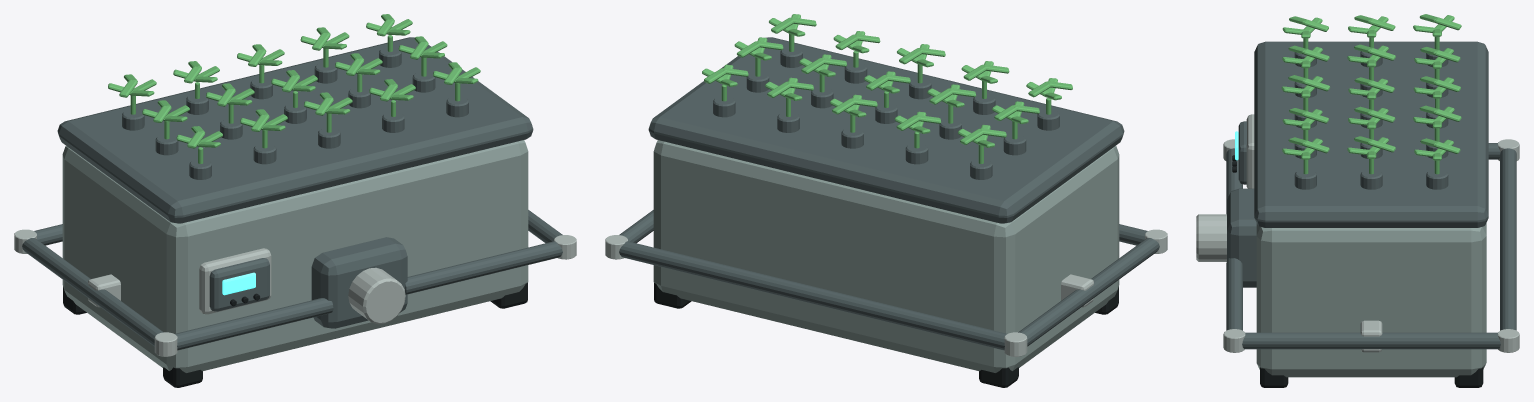
File: Bac de culture en eau profonde.glb
3 views of the same model, side by side, from view 1: azimuth 30°, elevation 25°; view 2: azimuth 150°, elevation 25°; view 3: azimuth 270°, elevation 25° (orthographic). The views are drawn at different scales.
Visible parts, largest first — view 1: 08_deep_water_culture_basin_Tank, 08_deep_water_culture_basin_Closed_Lid, 08_deep_water_culture_basin_Central_Motor_Housing, 08_deep_water_culture_basin_Right_Circulation_Segment_1, 08_deep_water_culture_basin_Left_Circulation_Segment_1, 08_deep_water_culture_basin_Left_Circulation_Segment_2, 08_deep_water_culture_basin_Central_Pump_Motor, 08_deep_water_culture_basin_Control_Housing, 08_deep_water_culture_basin_Control_Mounting_Plate, 08_deep_water_culture_basin_Foot_-1_-1, 08_deep_water_culture_basin_Right_Circulation_Segment_2, 08_deep_water_culture_basin_Control_Screen (+2 smaller); view 2: 08_deep_water_culture_basin_Tank, 08_deep_water_culture_basin_Closed_Lid, 08_deep_water_culture_basin_Left_Circulation_Segment_3, 08_deep_water_culture_basin_Right_Circulation_Segment_3, 08_deep_water_culture_basin_Left_Circulation_Segment_2, 08_deep_water_culture_basin_Foot_-1_1, 08_deep_water_culture_basin_Right_Circulation_Segment_2, 08_deep_water_culture_basin_Side_Pipe_Clamp_L, 08_deep_water_culture_basin_Left_Circulation_Joint_2; view 3: 08_deep_water_culture_basin_Closed_Lid, 08_deep_water_culture_basin_Tank, 08_deep_water_culture_basin_Right_Circulation_Segment_2, 08_deep_water_culture_basin_Central_Motor_Housing, 08_deep_water_culture_basin_Right_Circulation_Segment_3, 08_deep_water_culture_basin_Left_Circulation_Segment_3, 08_deep_water_culture_basin_Central_Pump_Motor, 08_deep_water_culture_basin_Right_Circulation_Segment_1, 08_deep_water_culture_basin_Control_Mounting_Plate, 08_deep_water_culture_basin_Control_Housing, 08_deep_water_culture_basin_Left_Circulation_Segment_1, 08_deep_water_culture_basin_Right_Circulation_Joint_1 (+7 smaller).
Part boxes in pixels (x1=…): 08_deep_water_culture_basin_Tank: x1=62, y1=140, x2=528, y2=372; 08_deep_water_culture_basin_Closed_Lid: x1=57, y1=37, x2=533, y2=223; 08_deep_water_culture_basin_Central_Motor_Housing: x1=311, y1=237, x2=407, y2=328; 08_deep_water_culture_basin_Right_Circulation_Segment_1: x1=405, y1=241, x2=562, y2=294; 08_deep_water_culture_basin_Left_Circulation_Segment_1: x1=175, y1=298, x2=333, y2=350; 08_deep_water_culture_basin_Left_Circulation_Segment_2: x1=22, y1=238, x2=163, y2=346; 08_deep_water_culture_basin_Central_Pump_Motor: x1=348, y1=267, x2=405, y2=324; 08_deep_water_culture_basin_Control_Housing: x1=209, y1=258, x2=269, y2=311; 08_deep_water_culture_basin_Control_Mounting_Plate: x1=199, y1=248, x2=271, y2=314; 08_deep_water_culture_basin_Foot_-1_-1: x1=163, y1=367, x2=202, y2=387; 08_deep_water_culture_basin_Right_Circulation_Segment_2: x1=528, y1=210, x2=562, y2=243; 08_deep_water_culture_basin_Control_Screen: x1=222, y1=272, x2=255, y2=295; 08_deep_water_culture_basin_Tank: x1=653, y1=140, x2=1119, y2=372; 08_deep_water_culture_basin_Closed_Lid: x1=648, y1=37, x2=1124, y2=223; 08_deep_water_culture_basin_Left_Circulation_Segment_3: x1=806, y1=286, x2=1006, y2=350; 08_deep_water_culture_basin_Right_Circulation_Segment_3: x1=619, y1=241, x2=822, y2=302; 08_deep_water_culture_basin_Left_Circulation_Segment_2: x1=1018, y1=238, x2=1159, y2=346; 08_deep_water_culture_basin_Foot_-1_1: x1=979, y1=367, x2=1018, y2=387; 08_deep_water_culture_basin_Right_Circulation_Segment_2: x1=619, y1=210, x2=653, y2=243; 08_deep_water_culture_basin_Side_Pipe_Clamp_L: x1=1061, y1=274, x2=1093, y2=307; 08_deep_water_culture_basin_Left_Circulation_Joint_2: x1=1004, y1=332, x2=1027, y2=356; 08_deep_water_culture_basin_Closed_Lid: x1=1254, y1=41, x2=1488, y2=227; 08_deep_water_culture_basin_Tank: x1=1256, y1=223, x2=1486, y2=377; 08_deep_water_culture_basin_Right_Circulation_Segment_2: x1=1242, y1=332, x2=1500, y2=349; 08_deep_water_culture_basin_Central_Motor_Housing: x1=1227, y1=188, x2=1256, y2=287; 08_deep_water_culture_basin_Right_Circulation_Segment_3: x1=1500, y1=235, x2=1516, y2=330; 08_deep_water_culture_basin_Left_Circulation_Segment_3: x1=1500, y1=148, x2=1516, y2=247; 08_deep_water_culture_basin_Central_Pump_Motor: x1=1196, y1=214, x2=1226, y2=261; 08_deep_water_culture_basin_Right_Circulation_Segment_1: x1=1226, y1=258, x2=1242, y2=330; 08_deep_water_culture_basin_Control_Mounting_Plate: x1=1246, y1=114, x2=1254, y2=188; 08_deep_water_culture_basin_Control_Housing: x1=1238, y1=121, x2=1246, y2=184; 08_deep_water_culture_basin_Left_Circulation_Segment_1: x1=1226, y1=148, x2=1242, y2=214; 08_deep_water_culture_basin_Right_Circulation_Joint_1: x1=1223, y1=329, x2=1245, y2=352.
Size of the model in its own units: 2.15 by 1.14 by 1.48.
